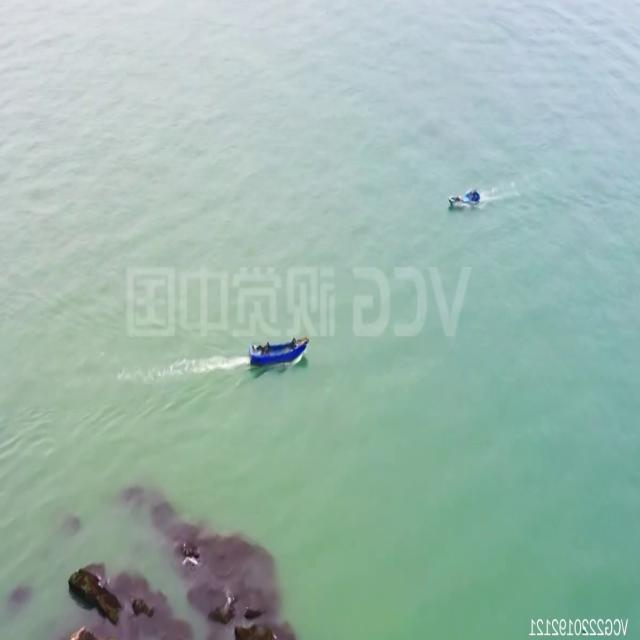fishing boat: (250, 330, 308, 370), (448, 182, 482, 210)
